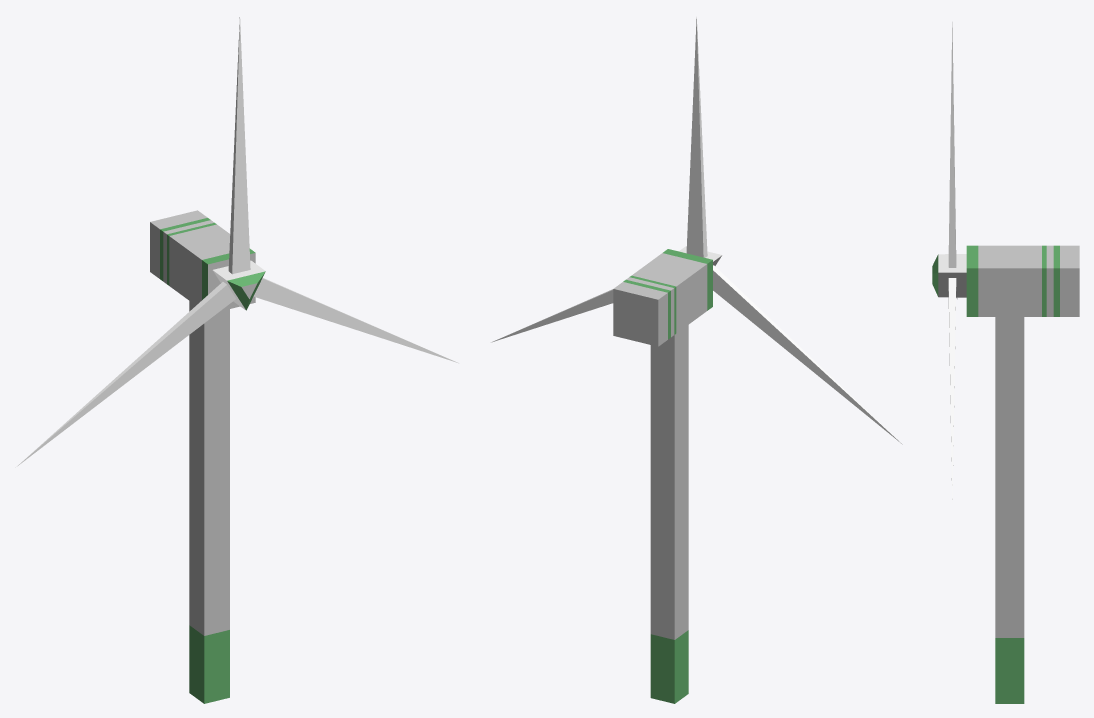
The model's file is WindTurb.fbx.
3 views of the same model, side by side, from view 1: azimuth 30°, elevation 25°; view 2: azimuth 150°, elevation 25°; view 3: azimuth 270°, elevation 25° (orthographic). The views are drawn at different scales.
Visible parts, largest first — view 1: Cube; view 2: Cube; view 3: Cube.
Part boxes in pixels (bbox=[...]): Cube: bbox=[15, 17, 458, 703]; Cube: bbox=[491, 17, 902, 703]; Cube: bbox=[932, 22, 1079, 703].
Bounding box in the file's own units: 725 × 1098 × 214.
